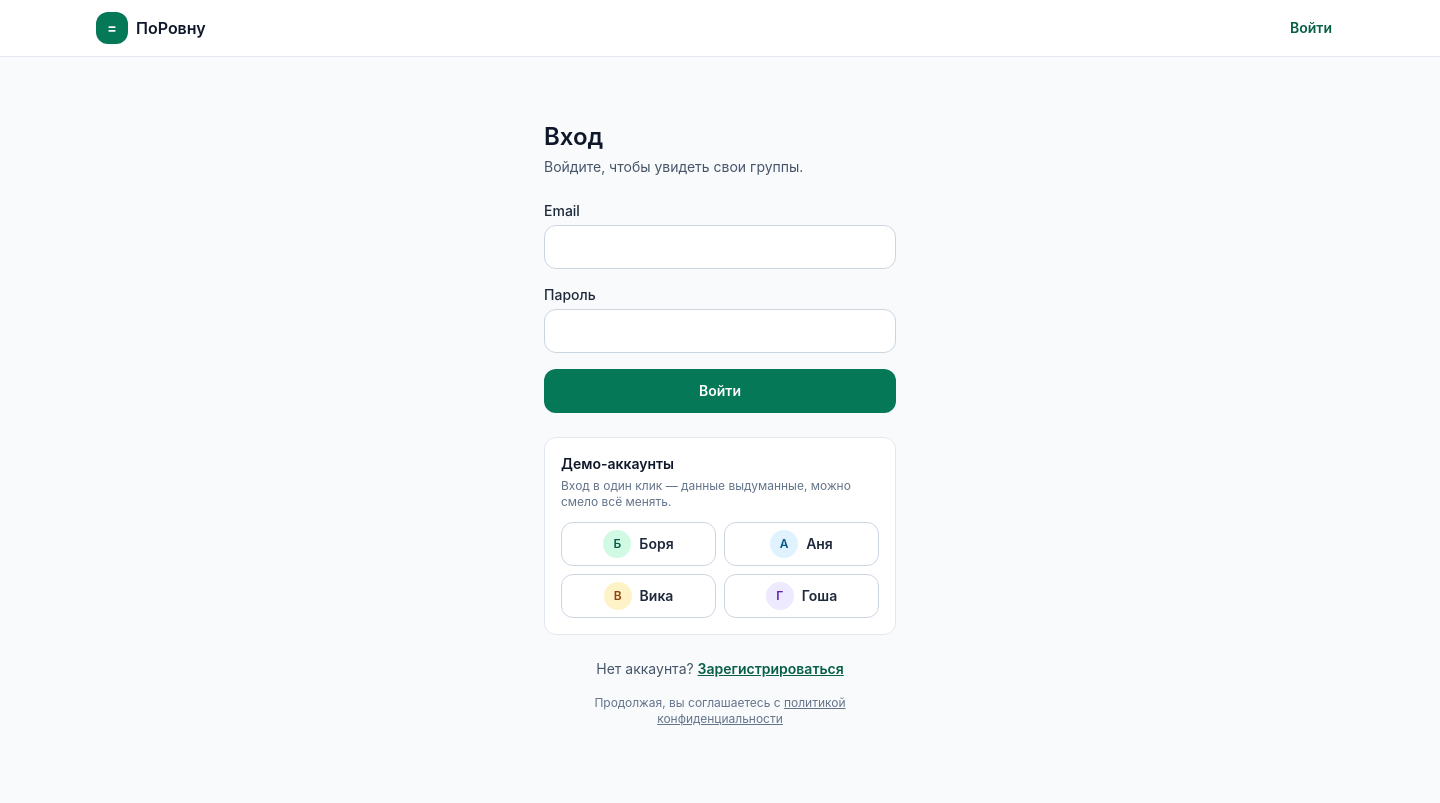
Test case: вход, регистрация и защищённые маршруты (US-01, FR-1.1, FR-1.2) › демо-аккаунт — вход одной кнопкой (ДЗ6)
Click the button with aria-label "Войти как Аня". click: x=802, y=544
box: [724, 522, 879, 566]
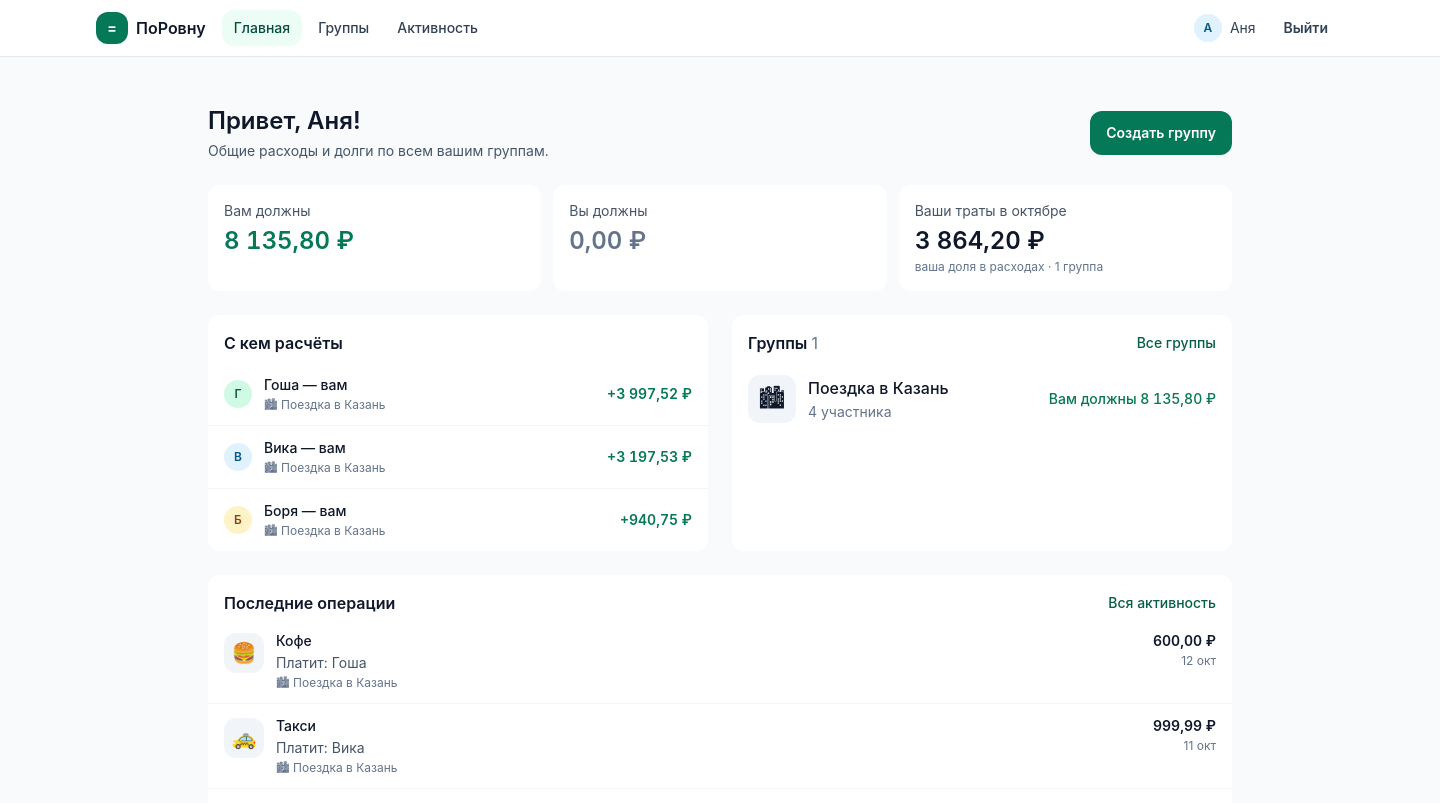
Result: the heading "Привет, Аня!" is shown at [208, 106, 361, 135]
